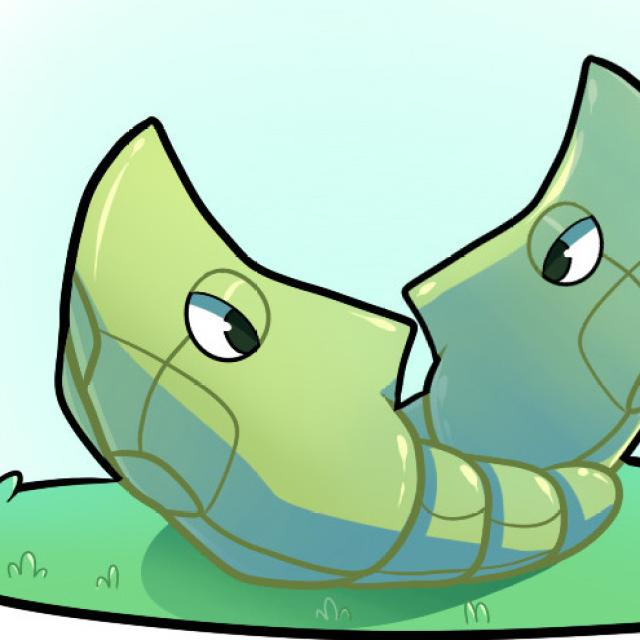Metapod: (38, 125, 408, 597), (396, 54, 640, 464)
